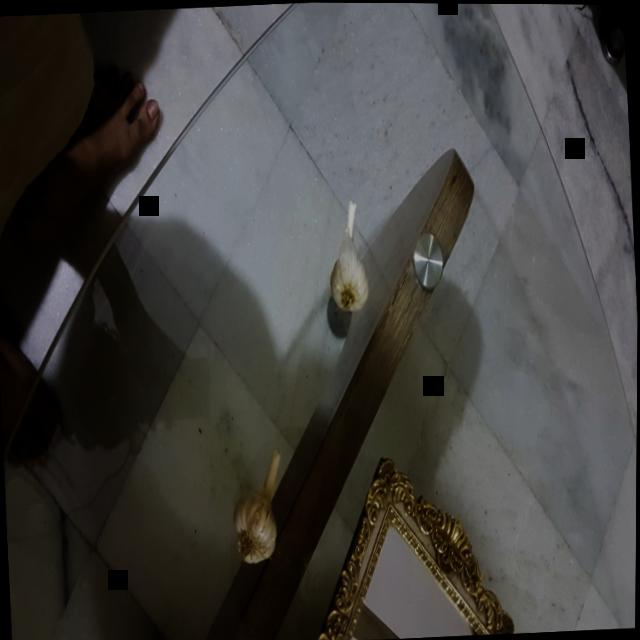garlic: (223, 446, 298, 574), (319, 194, 378, 320)
